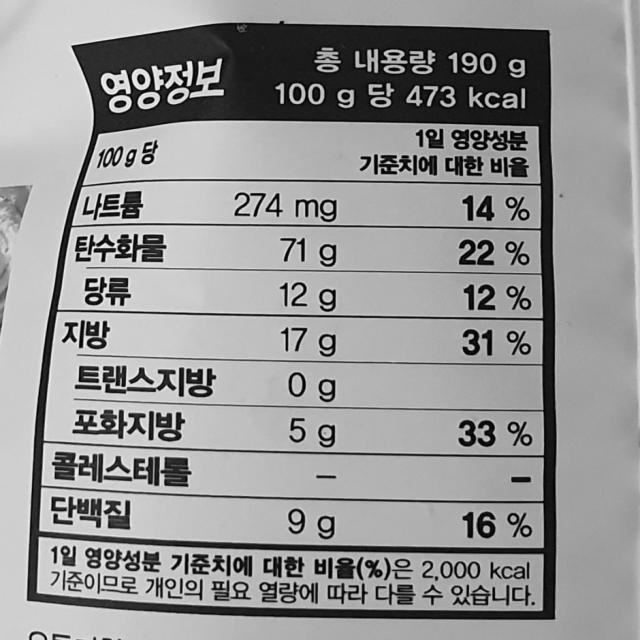Nutrition Label: (17, 8, 592, 631)
